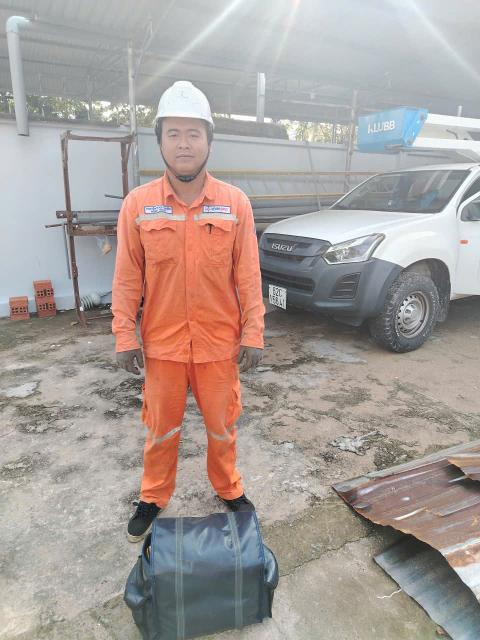helmet: (138, 67, 232, 142)
shoes: (97, 479, 179, 559), (202, 466, 265, 534)
